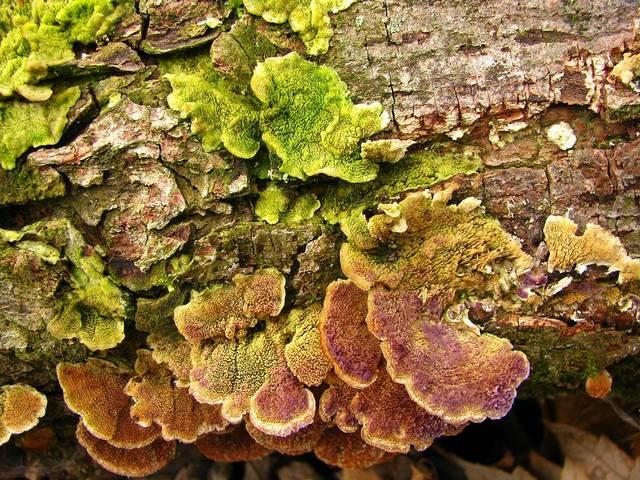poisonous_mushroom: (3, 0, 630, 463)
